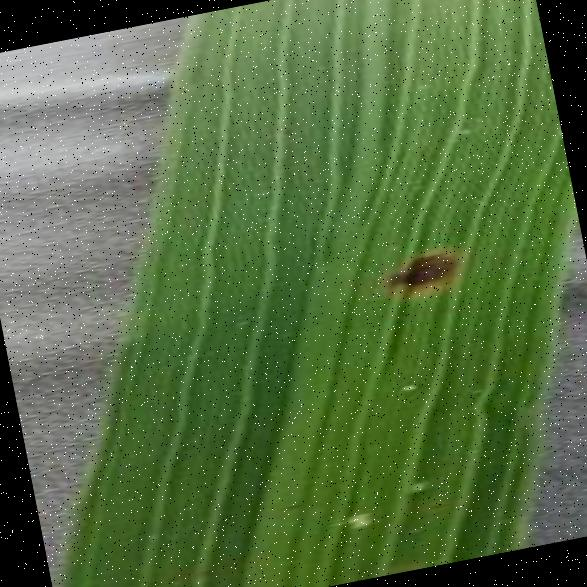Brown_Spot: (364, 226, 477, 314)
